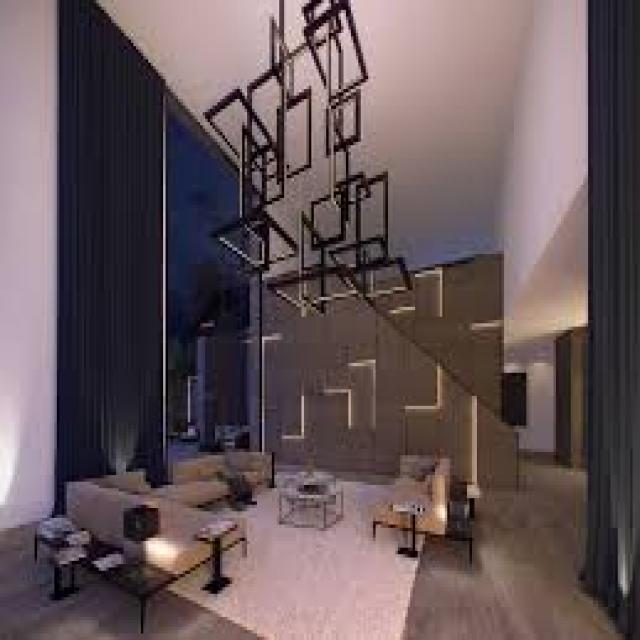Lamp: (112, 497, 166, 577), (444, 474, 476, 533)
Sofa: (47, 473, 265, 556), (377, 425, 455, 564), (144, 444, 276, 491)
Table: (277, 468, 343, 538)
